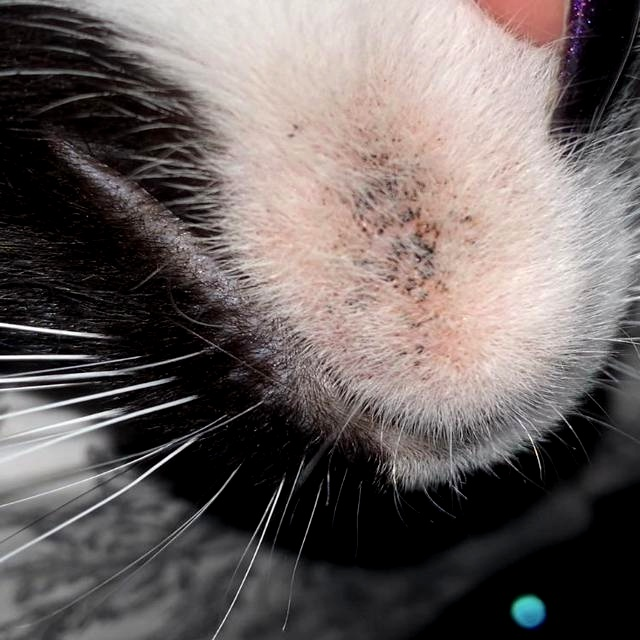acne: (264, 100, 483, 390)
